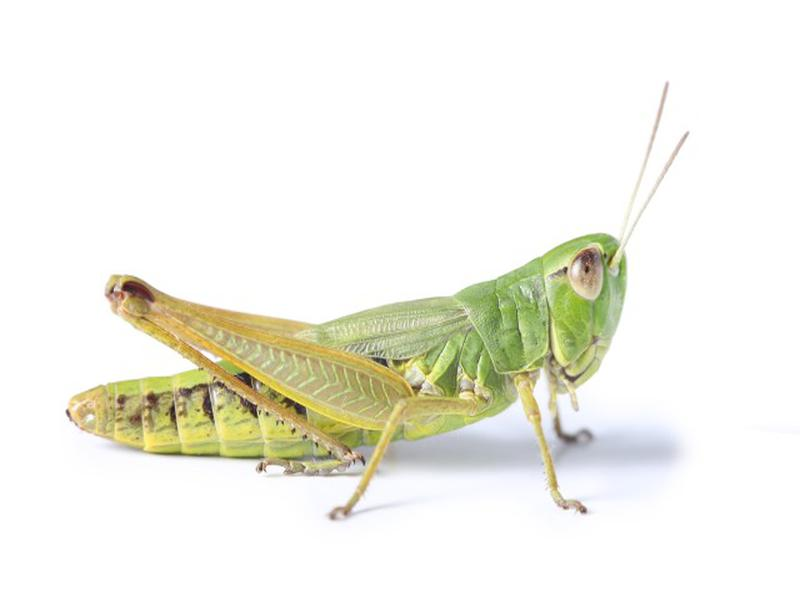Grasshopper: (61, 221, 676, 524)
